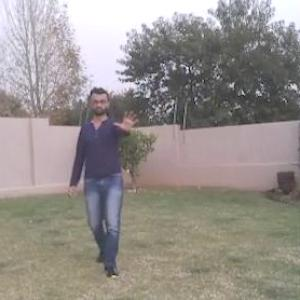follow_hand: (111, 104, 143, 137)
